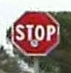stop: (10, 10, 60, 56)
